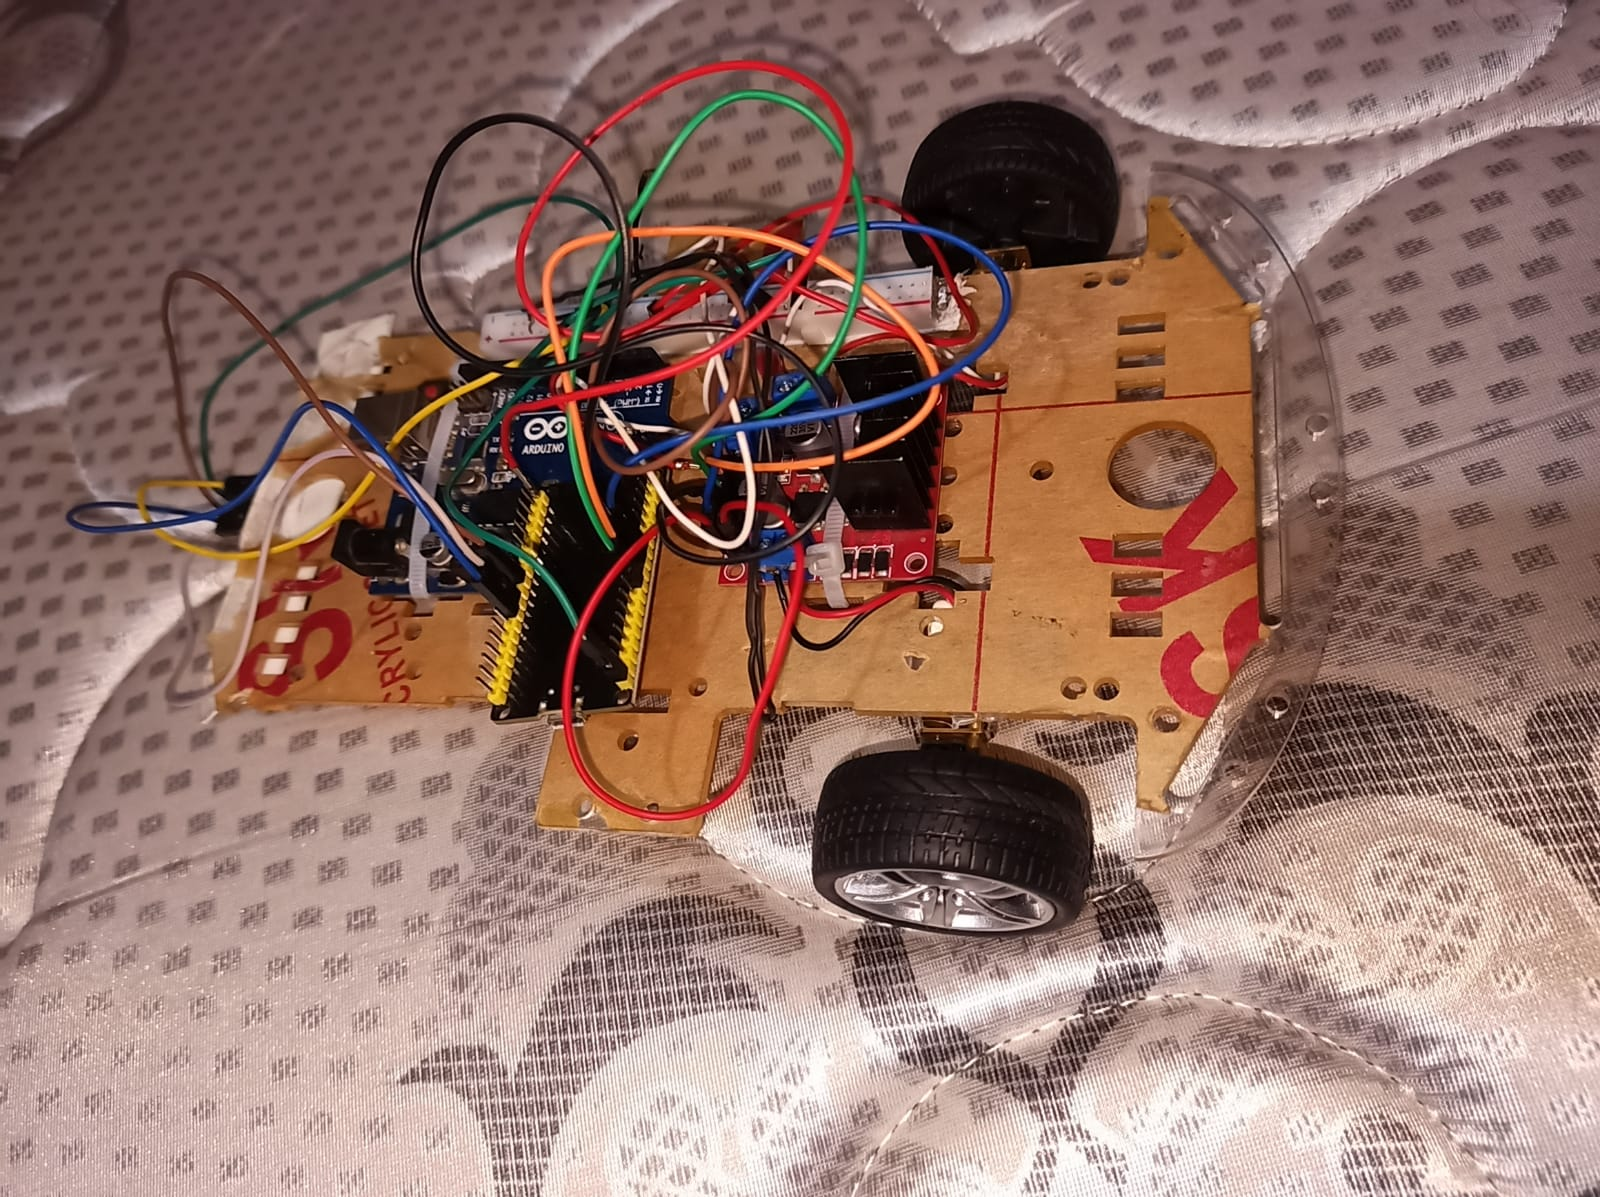Robot: (191, 101, 1350, 935)
